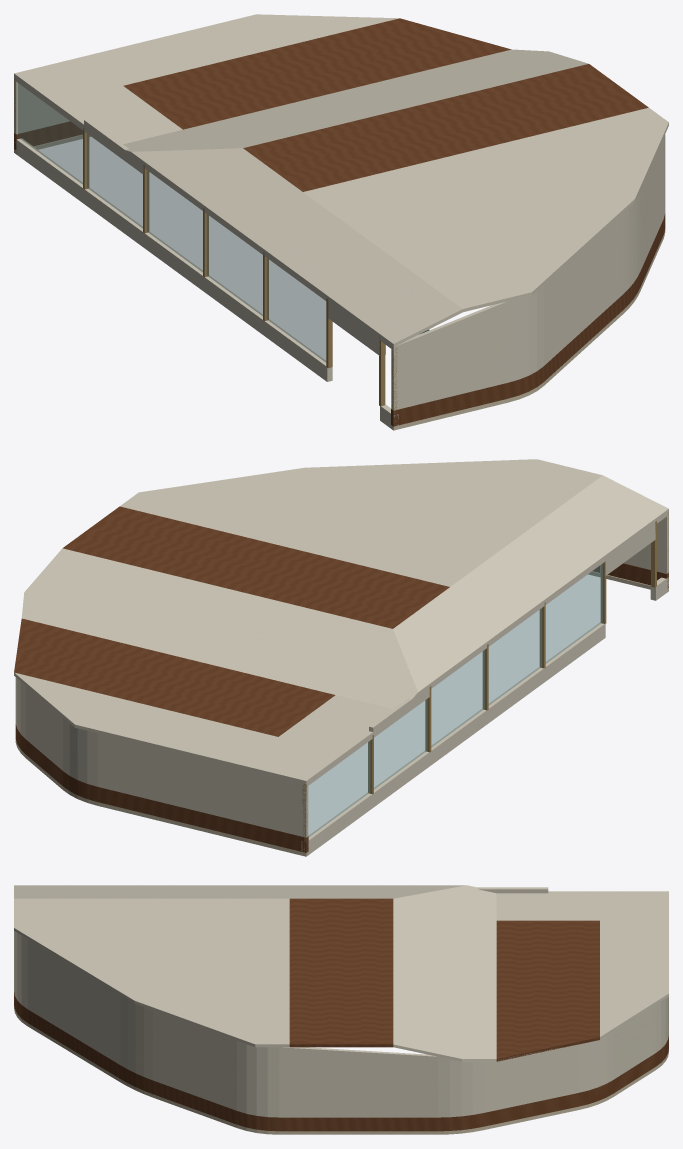
Rendered from AST-SAL-007.glb.
The picture shows the model from 3 angles, top to bottom: view 1: azimuth 30°, elevation 25°; view 2: azimuth 150°, elevation 25°; view 3: azimuth 270°, elevation 25°; orthographic projection. The views are drawn at different scales.
Parts seen in each view (by area): view 1: SAL_UpperWall_30, SAL_SectionalCeiling_2_1_0, SAL_SectionalCeiling_2_3_0, SAL_SectionalCeiling_2_4_0, SAL_SectionalCeiling_3_3_0, SAL_SectionalCeiling_2_5_0, SAL_SectionalCeiling_3_4_0, SAL_UpperWall_25, SAL_SectionalCeiling_3_1_0, SAL_SectionalCeiling_0_5_0, SAL_SectionalCeiling_0_4_0, SAL_SectionalCeiling_0_3_0 (+38 smaller); view 2: SAL_UpperWall_0, SAL_SectionalCeiling_2_2_0, SAL_SectionalCeiling_3_2_0, SAL_SectionalCeiling_2_1_0, SAL_SectionalCeiling_2_3_0, SAL_SectionalCeiling_2_4_0, SAL_SectionalCeiling_3_3_0, SAL_SectionalCeiling_2_5_0, SAL_SectionalCeiling_3_4_0, SAL_SectionalCeiling_1_2_0, SAL_SectionalCeiling_2_0_0, SAL_SectionalCeiling_3_1_0 (+37 smaller); view 3: SAL_UpperWall_15, SAL_UpperWall_25, SAL_SectionalCeiling_3_3_0, SAL_SectionalCeiling_3_2_0, SAL_SectionalCeiling_2_3_0, SAL_SectionalCeiling_2_4_0, SAL_SectionalCeiling_2_1_0, SAL_SectionalCeiling_2_2_0, SAL_SectionalCeiling_2_5_0, SAL_UpperWall_20, SAL_SectionalCeiling_3_4_0, SAL_UpperWall_10 (+47 smaller).
Boxes of the visible parts, x1,y1,x2,y2 form: SAL_UpperWall_30: [391, 301, 507, 410]; SAL_SectionalCeiling_2_1_0: [193, 35, 389, 112]; SAL_SectionalCeiling_2_3_0: [312, 97, 510, 174]; SAL_SectionalCeiling_2_4_0: [372, 141, 569, 218]; SAL_SectionalCeiling_3_3_0: [451, 64, 648, 141]; SAL_SectionalCeiling_2_5_0: [432, 185, 614, 262]; SAL_SectionalCeiling_3_4_0: [511, 107, 668, 185]; SAL_UpperWall_25: [544, 213, 623, 365]; SAL_SectionalCeiling_3_1_0: [331, 18, 511, 78]; SAL_SectionalCeiling_0_5_0: [293, 236, 422, 317]; SAL_SectionalCeiling_0_4_0: [233, 192, 362, 273]; SAL_SectionalCeiling_0_3_0: [173, 148, 302, 229]; SAL_UpperWall_0: [98, 733, 308, 837]; SAL_SectionalCeiling_2_2_0: [137, 580, 326, 678]; SAL_SectionalCeiling_3_2_0: [21, 548, 194, 646]; SAL_SectionalCeiling_2_1_0: [80, 646, 268, 720]; SAL_SectionalCeiling_2_3_0: [195, 538, 383, 612]; SAL_SectionalCeiling_2_4_0: [252, 497, 440, 570]; SAL_SectionalCeiling_3_3_0: [63, 506, 251, 580]; SAL_SectionalCeiling_2_5_0: [309, 464, 498, 528]; SAL_SectionalCeiling_3_4_0: [120, 478, 308, 538]; SAL_SectionalCeiling_1_2_0: [270, 613, 392, 694]; SAL_SectionalCeiling_2_0_0: [54, 688, 211, 751]; SAL_SectionalCeiling_3_1_0: [14, 618, 136, 688]; SAL_UpperWall_15: [279, 1047, 437, 1117]; SAL_UpperWall_25: [28, 939, 120, 1064]; SAL_SectionalCeiling_3_3_0: [289, 986, 393, 1047]; SAL_SectionalCeiling_3_2_0: [393, 986, 496, 1061]; SAL_SectionalCeiling_2_3_0: [289, 928, 393, 986]; SAL_SectionalCeiling_2_4_0: [186, 928, 289, 986]; SAL_SectionalCeiling_2_1_0: [496, 949, 599, 1007]; SAL_SectionalCeiling_2_2_0: [393, 928, 496, 1007]; SAL_SectionalCeiling_2_5_0: [83, 928, 186, 988]; SAL_UpperWall_20: [153, 1010, 236, 1110]; SAL_SectionalCeiling_3_4_0: [186, 986, 289, 1047]; SAL_UpperWall_10: [483, 1044, 578, 1112].
Bounding box in the file's own units: 24 × 5.78 × 38.
Materials: 7 (5 with a texture image).
